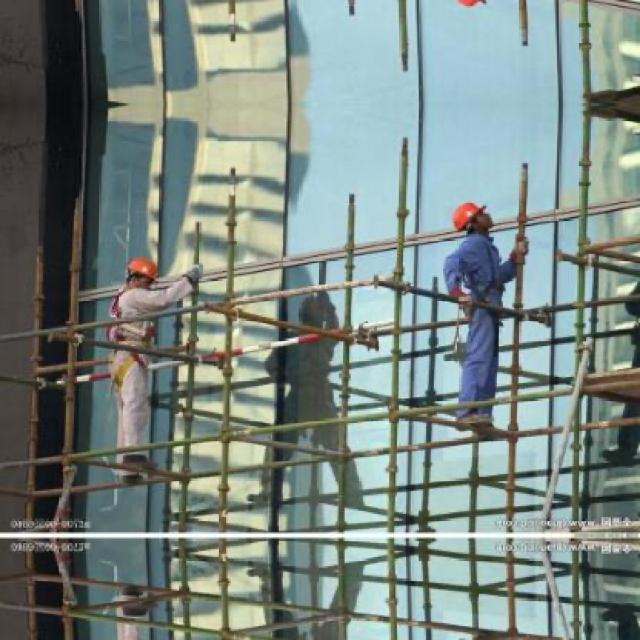helmet: (125, 255, 162, 292), (449, 200, 488, 235), (449, 0, 489, 8)
